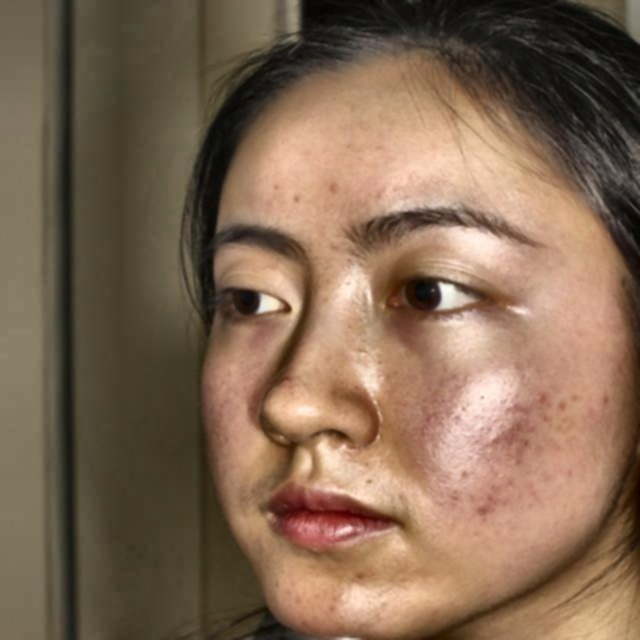comedone: (465, 495, 503, 520), (533, 386, 554, 410)
